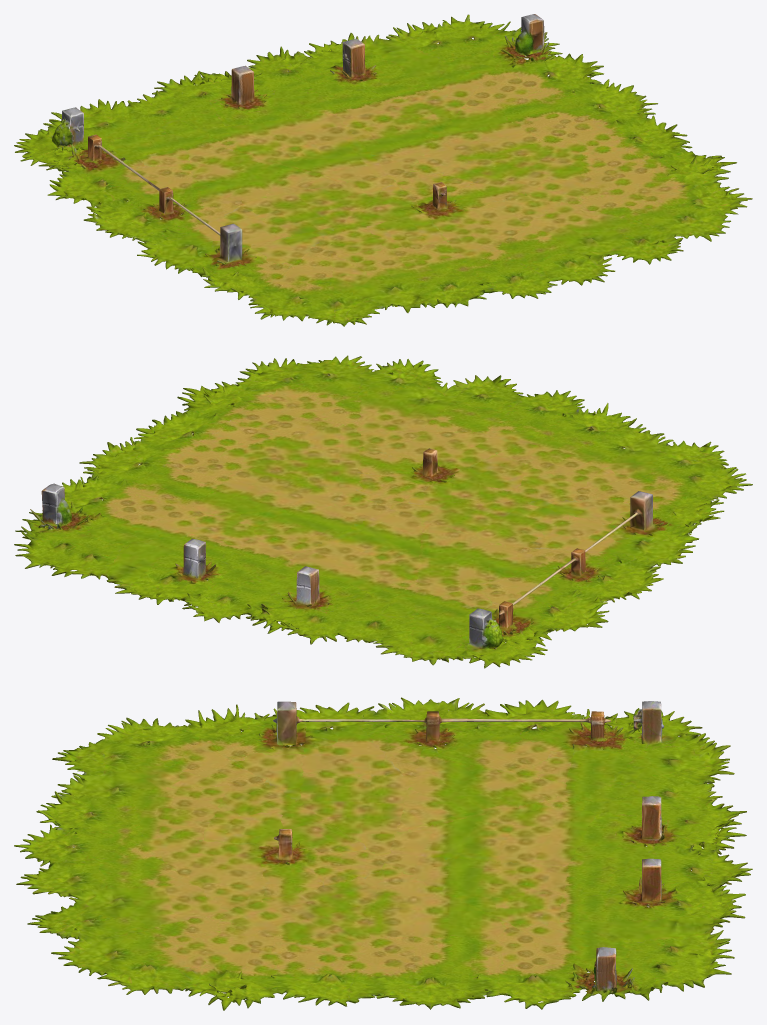
Rendered from arqueria_e1.glb.
3 views of the same model, one above another, from view 1: azimuth 30°, elevation 25°; view 2: azimuth 150°, elevation 25°; view 3: azimuth 270°, elevation 25° (orthographic). The views are drawn at different scales.
Size of the model in its own units: 1.78 by 0.1208 by 1.79.
Materials: 1 (1 with a texture image).
